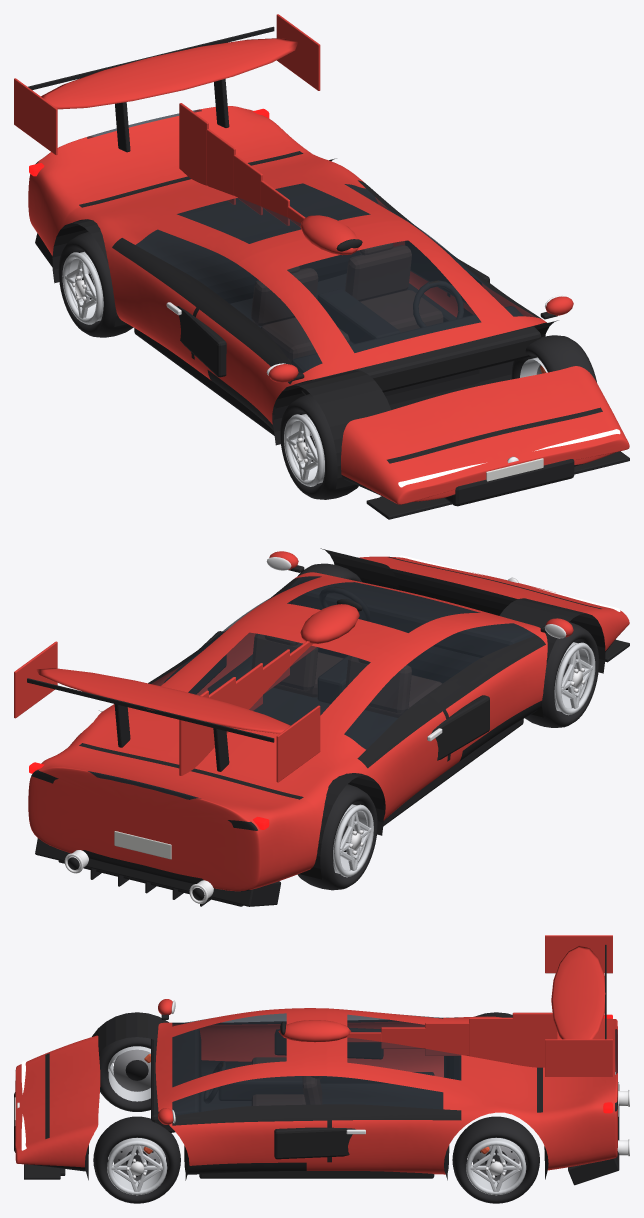
The model's file is vortex.glb.
3 renders of one model, top to bottom at view 1: azimuth 30°, elevation 25°; view 2: azimuth 150°, elevation 25°; view 3: azimuth 270°, elevation 25°, orthographic. The views are drawn at different scales.
Visible parts, largest first — view 1: body, wheel_fr, wheel_rr, wheel_fl; view 2: body, wheel_rr, wheel_fr, wheel_fl; view 3: body, wheel_rl, wheel_fl, wheel_fr.
Part boxes in pixels (x1,y1,x2,y2): body: (14, 14, 629, 519); wheel_fr: (280, 394, 358, 499); wheel_rr: (58, 231, 133, 337); wheel_fl: (511, 335, 596, 382); body: (14, 548, 629, 906); wheel_rr: (297, 784, 377, 890); wheel_fr: (525, 622, 599, 727); wheel_fl: (297, 563, 361, 581); body: (14, 935, 629, 1185); wheel_rl: (452, 1116, 539, 1203); wheel_fl: (93, 1116, 180, 1203); wheel_fr: (99, 1037, 150, 1111).
Bounding box in the file's own units: 2.33 × 1.51 × 5.06.
